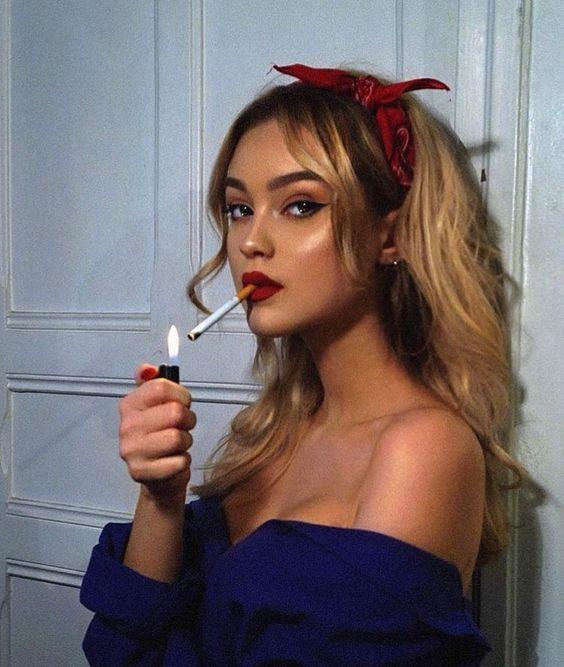cigarette: (187, 283, 259, 341)
